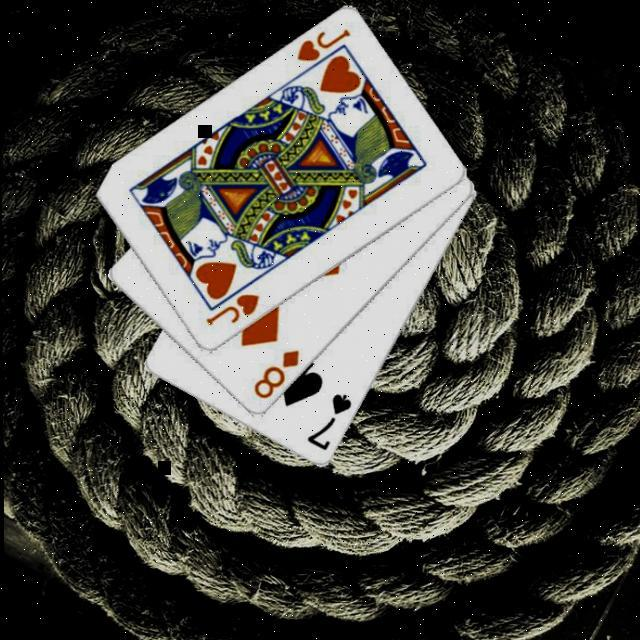7S: (305, 392, 356, 457)
8D: (252, 348, 304, 404)
JH: (204, 292, 264, 331), (295, 28, 355, 67)
